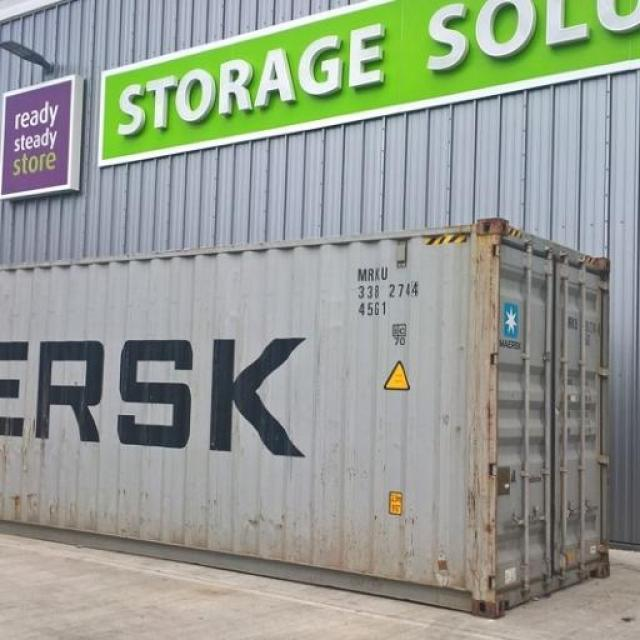ISO: (360, 301, 394, 320)
container_number: (356, 266, 420, 302)
